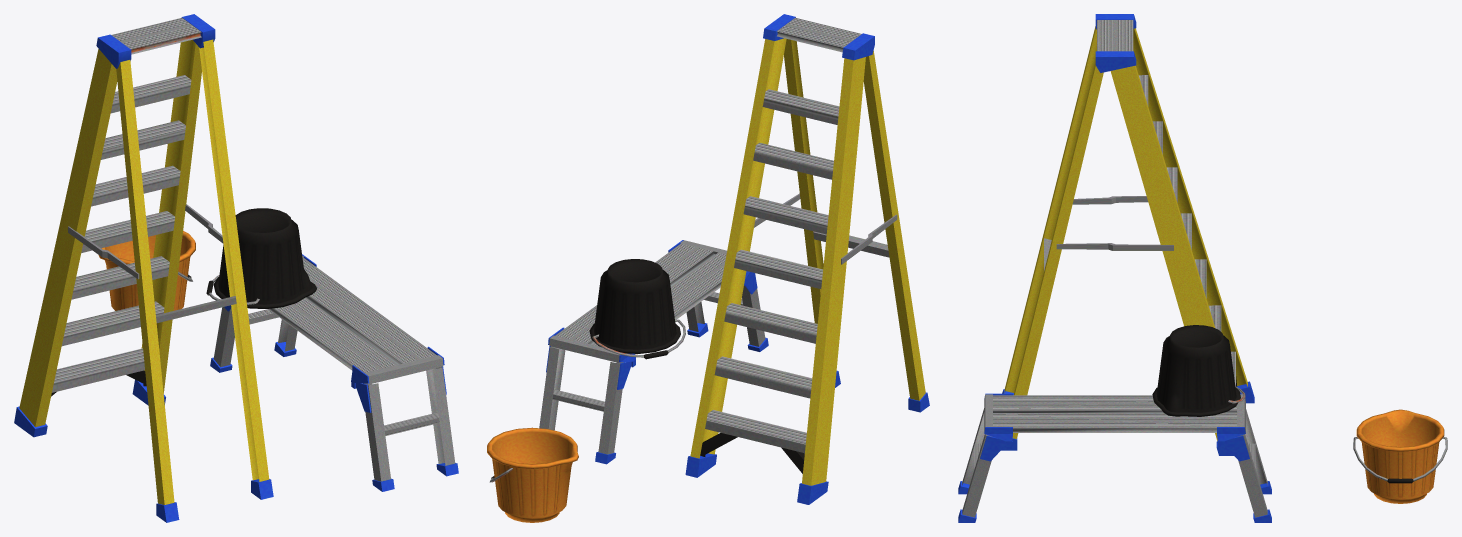
The model's file is SM_ConstructionBits.fbx.
3 views of the same model, side by side, from view 1: azimuth 30°, elevation 25°; view 2: azimuth 150°, elevation 25°; view 3: azimuth 270°, elevation 25° (orthographic). The views are drawn at different scales.
Visible parts, largest first — view 1: AluPlank002, AluPlank001, BucketBlack, Bucket; view 2: AluPlank002, AluPlank001, Bucket, BucketBlack; view 3: AluPlank002, AluPlank001, BucketBlack, Bucket.
Boxes of the visible parts, bbox=[...] form: AluPlank002: bbox=[14, 14, 273, 522]; AluPlank001: bbox=[210, 254, 458, 491]; BucketBlack: bbox=[213, 208, 316, 308]; Bucket: bbox=[98, 231, 195, 310]; AluPlank002: bbox=[685, 14, 929, 504]; AluPlank001: bbox=[539, 240, 768, 464]; Bucket: bbox=[487, 427, 578, 522]; BucketBlack: bbox=[589, 259, 680, 353]; AluPlank002: bbox=[1001, 14, 1254, 455]; AluPlank001: bbox=[958, 393, 1271, 522]; BucketBlack: bbox=[1152, 325, 1240, 416]; Bucket: bbox=[1356, 409, 1444, 503].
Size of the model in its own units: 115 by 189 by 166.
Materials: 4 (4 with a texture image).
